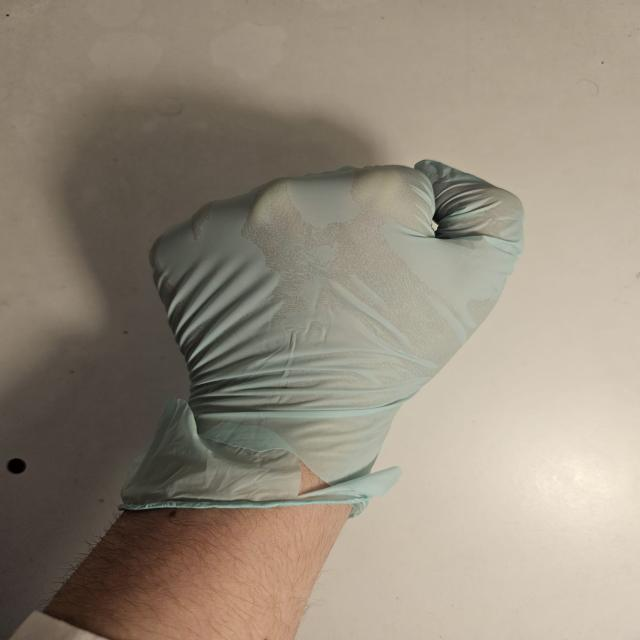gloves_damaged: (96, 158, 528, 509)
